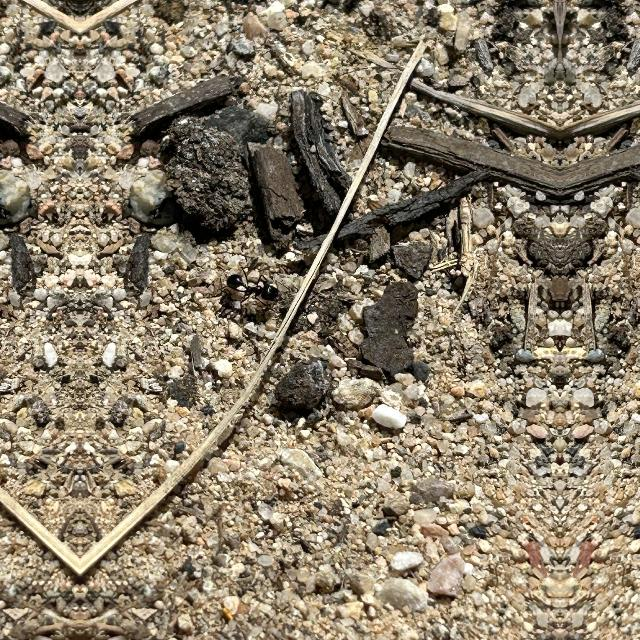Messor: (222, 265, 288, 305)
